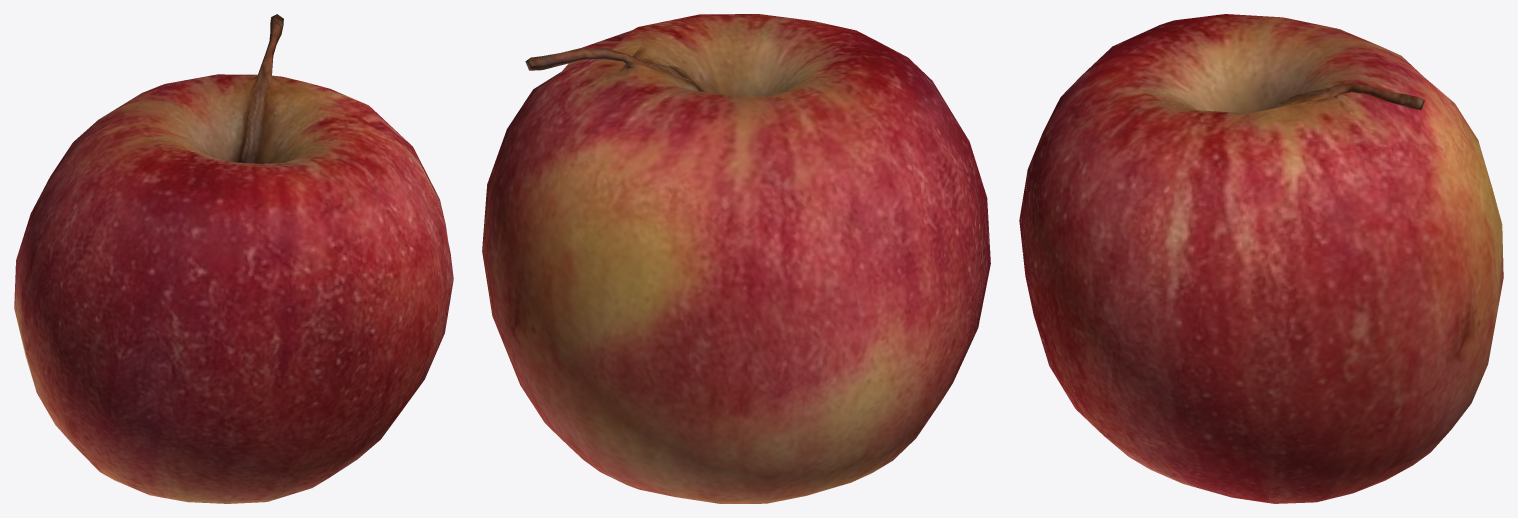
File: A73_Apple_low.fbx
3 views of the same model, side by side, from view 1: azimuth 30°, elevation 25°; view 2: azimuth 150°, elevation 25°; view 3: azimuth 270°, elevation 25° (orthographic). The views are drawn at different scales.
Visible parts, largest first — view 1: A73_Apple_low; view 2: A73_Apple_low; view 3: A73_Apple_low.
Part boxes in pixels (x1,y1,x2,y2): A73_Apple_low: (14,14,453,503); A73_Apple_low: (482,14,990,503); A73_Apple_low: (1019,14,1503,503).
Size of the model in its own units: 12.31 by 11.83 by 11.42.
Materials: 1 (1 with a texture image).
